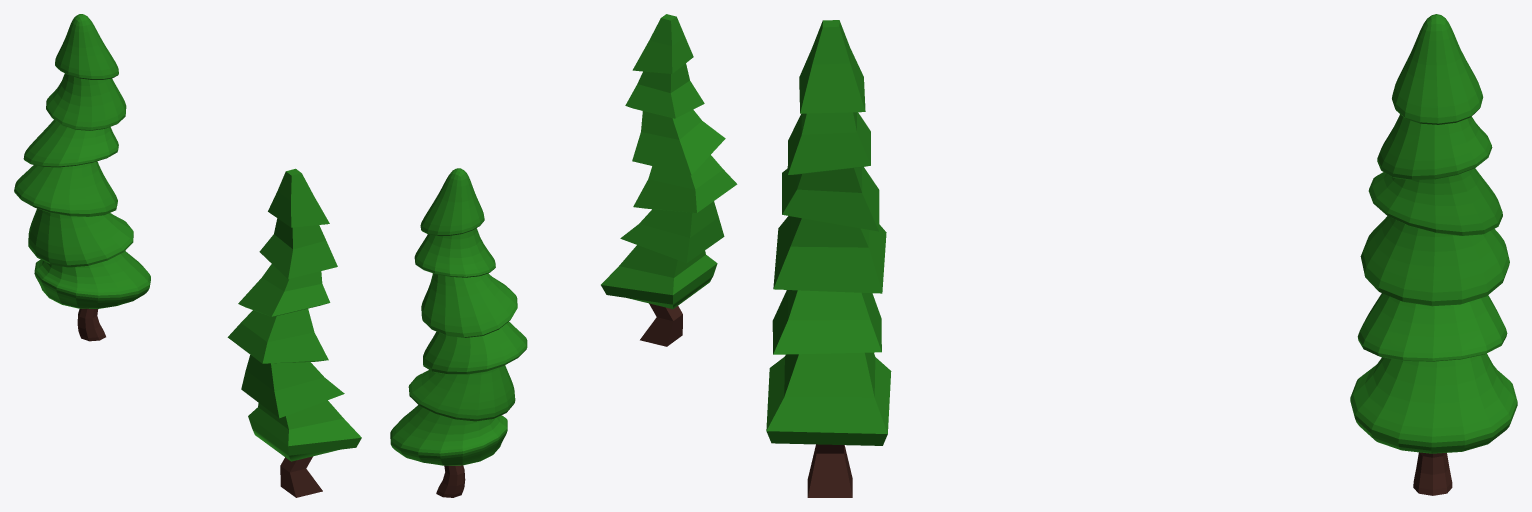
The model's file is Pinheirinhos.fbx.
3 views of the same model, side by side, from view 1: azimuth 30°, elevation 25°; view 2: azimuth 150°, elevation 25°; view 3: azimuth 270°, elevation 25° (orthographic). The views are drawn at different scales.
Visible parts, largest first — view 1: Pinheiro_High, Pinheiro_Low, Pinheiro_Tora_Low, Pinheiro_Tora_High; view 2: Pinheiro_High, Pinheiro_Low, Pinheiro_Tora_Low, Pinheiro_Tora_High; view 3: Pinheiro_High, Pinheiro_Low, Pinheiro_Tora_Low, Pinheiro_Tora_High.
Boxes of the visible parts, x1,y1,x2,y2 form: Pinheiro_High: (14, 14, 150, 308); Pinheiro_Low: (227, 168, 361, 461); Pinheiro_Tora_Low: (280, 456, 322, 497); Pinheiro_Tora_High: (77, 308, 105, 341); Pinheiro_High: (390, 168, 527, 465); Pinheiro_Low: (601, 14, 737, 309); Pinheiro_Tora_Low: (640, 303, 682, 346); Pinheiro_Tora_High: (436, 465, 465, 497); Pinheiro_High: (1350, 14, 1517, 453); Pinheiro_Low: (766, 20, 891, 445); Pinheiro_Tora_Low: (807, 444, 852, 497); Pinheiro_Tora_High: (1413, 452, 1452, 495).
Size of the model in its own units: 420 by 1074 by 1569.
